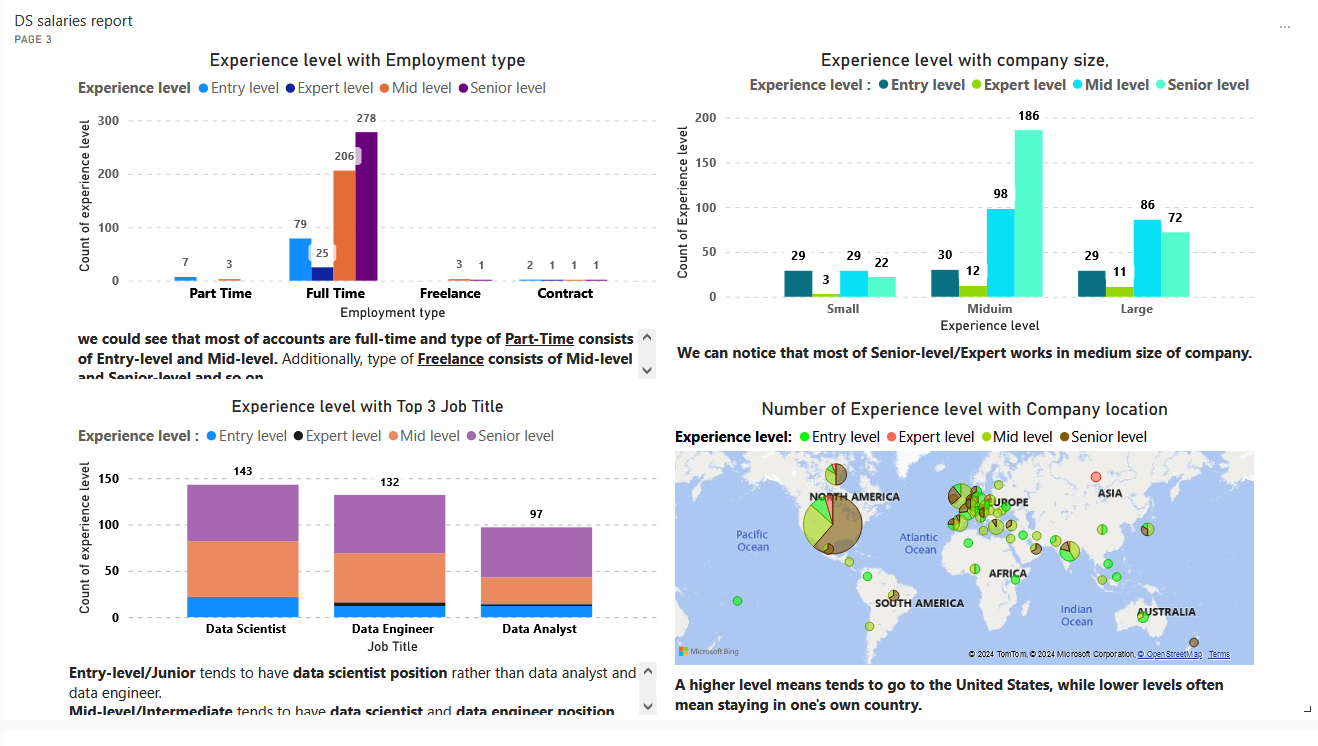

What the dashboard file says about the page in this screenshot:
{"tool":"powerbi","page":{"name":"Page 3","canvas":[1280,720],"ordinal":2},"visuals":[{"type":"lineClusteredColumnComboChart","title":"Experience level with Employment type","fields":{"Category":["DS Salaries.employment_type"],"Y":["CountNonNull(DS Salaries.experience_level)"],"Series":["DS Salaries.experience_level"]},"box":[10.1,0,630.7,296.6],"z":0},{"type":"lineStackedColumnComboChart","title":"Experience level with Top 3 Job Title","fields":{"Category":["DS Salaries.job_title"],"Y":["CountNonNull(DS Salaries.experience_level)"],"Series":["DS Salaries.experience_level"]},"box":[10.1,373,630.7,280.8],"z":1000},{"type":"lineClusteredColumnComboChart","title":"Experience level with company size, ","fields":{"Category":["DS Salaries.company_size"],"Y":["CountNonNull(DS Salaries.experience_level)"],"Series":["DS Salaries.experience_level"]},"box":[649.4,0,630.7,311],"z":2000},{"type":"map","title":"Number of Experience level with Company location","fields":{"Category":["DS Salaries.company_location"],"Series":["DS Salaries.experience_level"],"Size":["CountNonNull(DS Salaries.experience_level)"]},"box":[649.4,373,630.7,293.8],"z":3000},{"type":"textbox","box":[10.1,296.6,629.3,63.4],"z":4000},{"type":"textbox","box":[0,653.8,639.4,66.2],"z":5000},{"type":"textbox","box":[649.4,311,630.7,49],"z":6000},{"type":"textbox","box":[649.4,666.7,630.7,53.3],"z":7000}]}

Visuals, with their boxes in screenshot pixels (x1, y1, x2, y2), scaled from the page's 1280x720 canvas onto the 1318x746 screenshot:
"Experience level with Employment type" lineClusteredColumnComboChart: [x1=10, y1=0, x2=660, y2=307]
"Experience level with Top 3 Job Title" lineStackedColumnComboChart: [x1=10, y1=386, x2=660, y2=677]
"Experience level with company size, " lineClusteredColumnComboChart: [x1=669, y1=0, x2=1317, y2=322]
"Number of Experience level with Company location" map: [x1=669, y1=386, x2=1317, y2=691]
textbox: [x1=10, y1=307, x2=658, y2=373]
textbox: [x1=0, y1=677, x2=658, y2=745]
textbox: [x1=669, y1=322, x2=1317, y2=373]
textbox: [x1=669, y1=691, x2=1317, y2=745]
